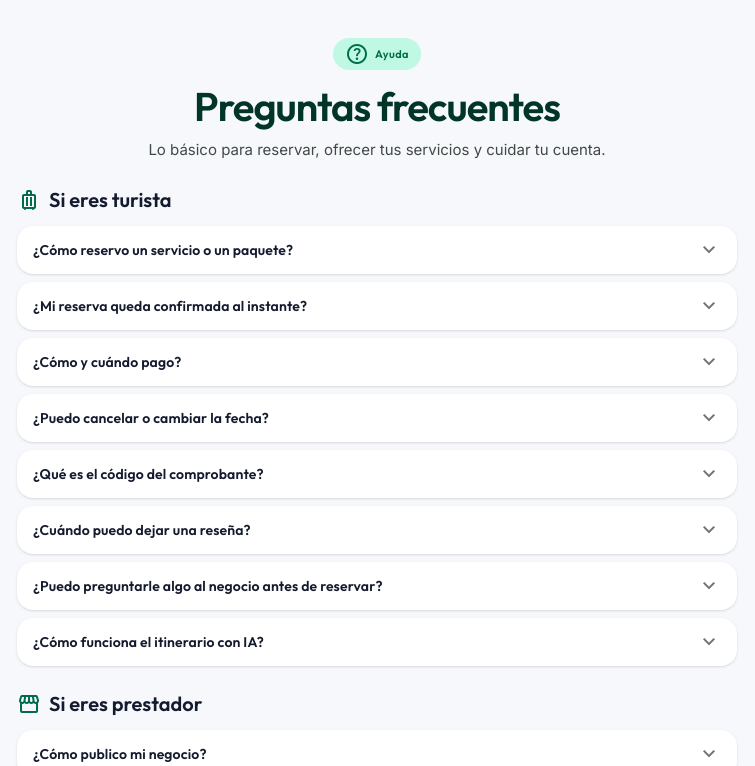
Test: Ayuda: mensajes con el negocio › explica cómo preguntar antes de reservar y cómo responde el negocio, enlazando a la bandeja
The image size is (755, 766).
Click the heading "¿Puedo preguntarle algo al negocio antes de reservar?" at point(377, 586), box [33,572,721,600]
(page scrolled)
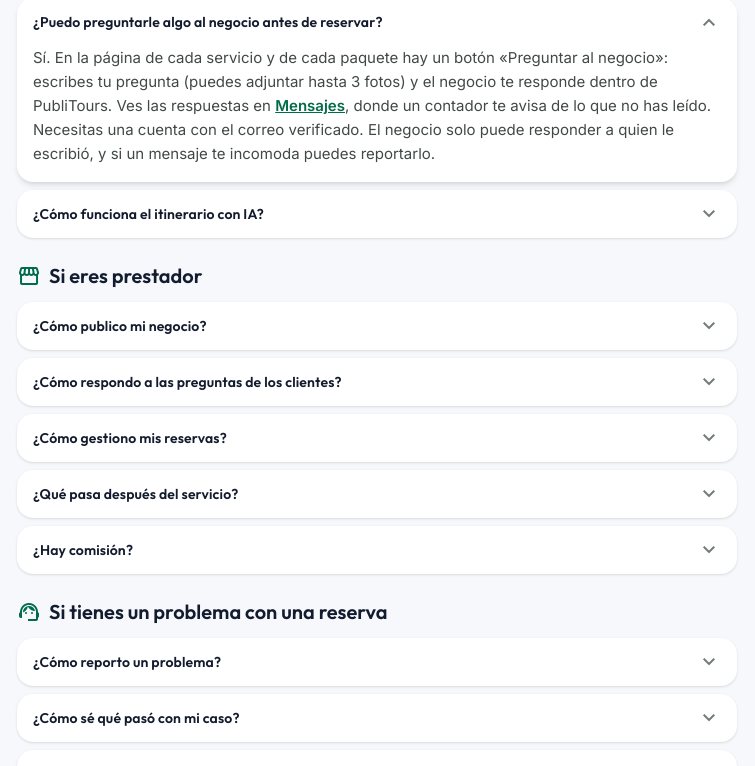
Check: the text "botón «Preguntar al negocio»" shows "hasta 3 fotos", box [308,72,400,91]
Check: the text "botón «Preguntar al negocio»" shows "correo verificado", box [33,96,711,163]
Check: the text "botón «Preguntar al negocio»" shows "solo puede responder a quien le escribió", box [33,96,711,163]
Click the heading "¿Cómo respondo a las preguntas de los clientes?" at point(187, 382), box [33,368,721,396]
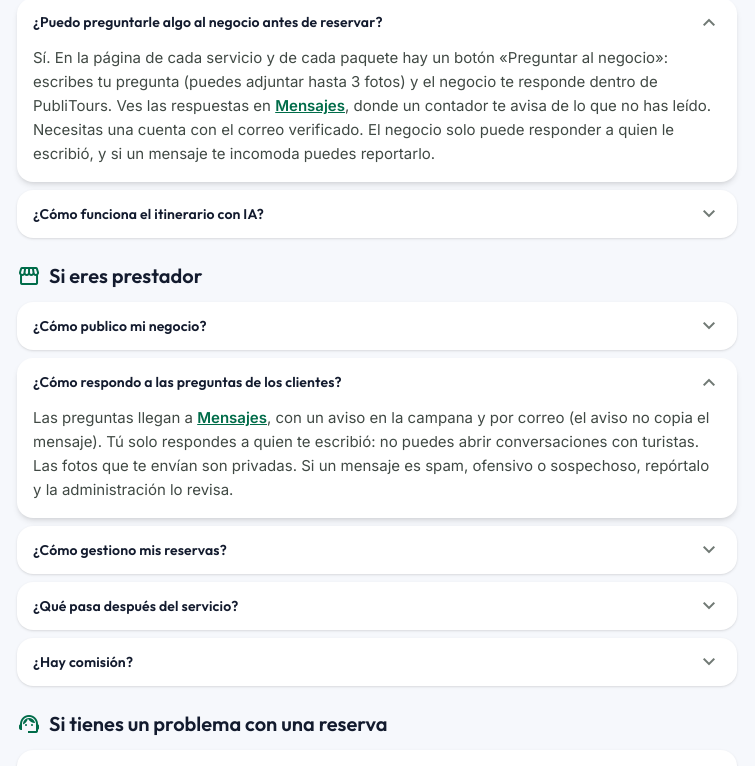
Check: the text "no puedes abrir conversaciones con turistas" is shown, box [33,408,709,499]
